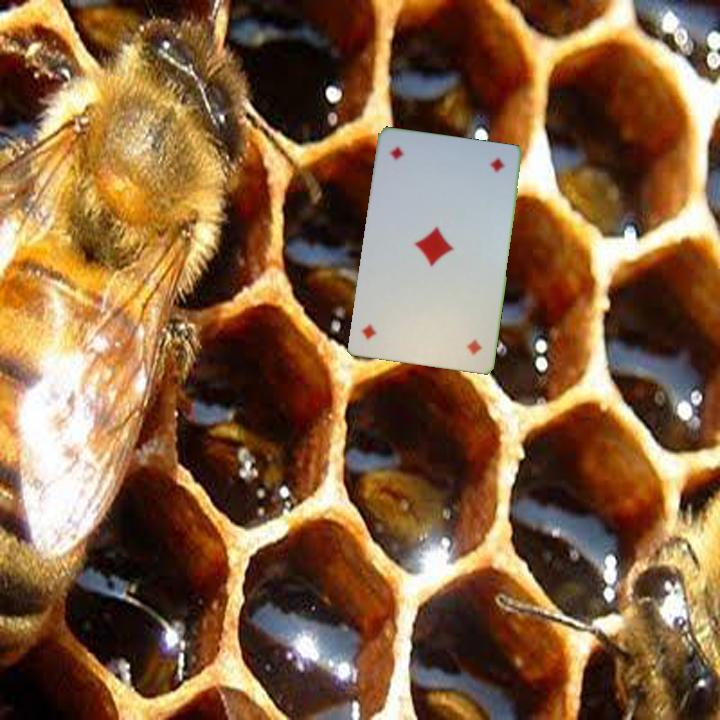d_a.png: (418, 297, 492, 364), (379, 137, 453, 203)
